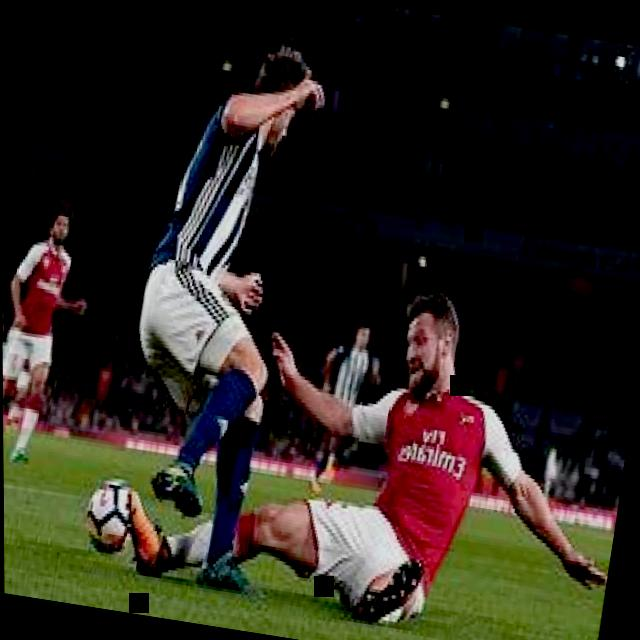Fall-Detected: (104, 232, 640, 640)
